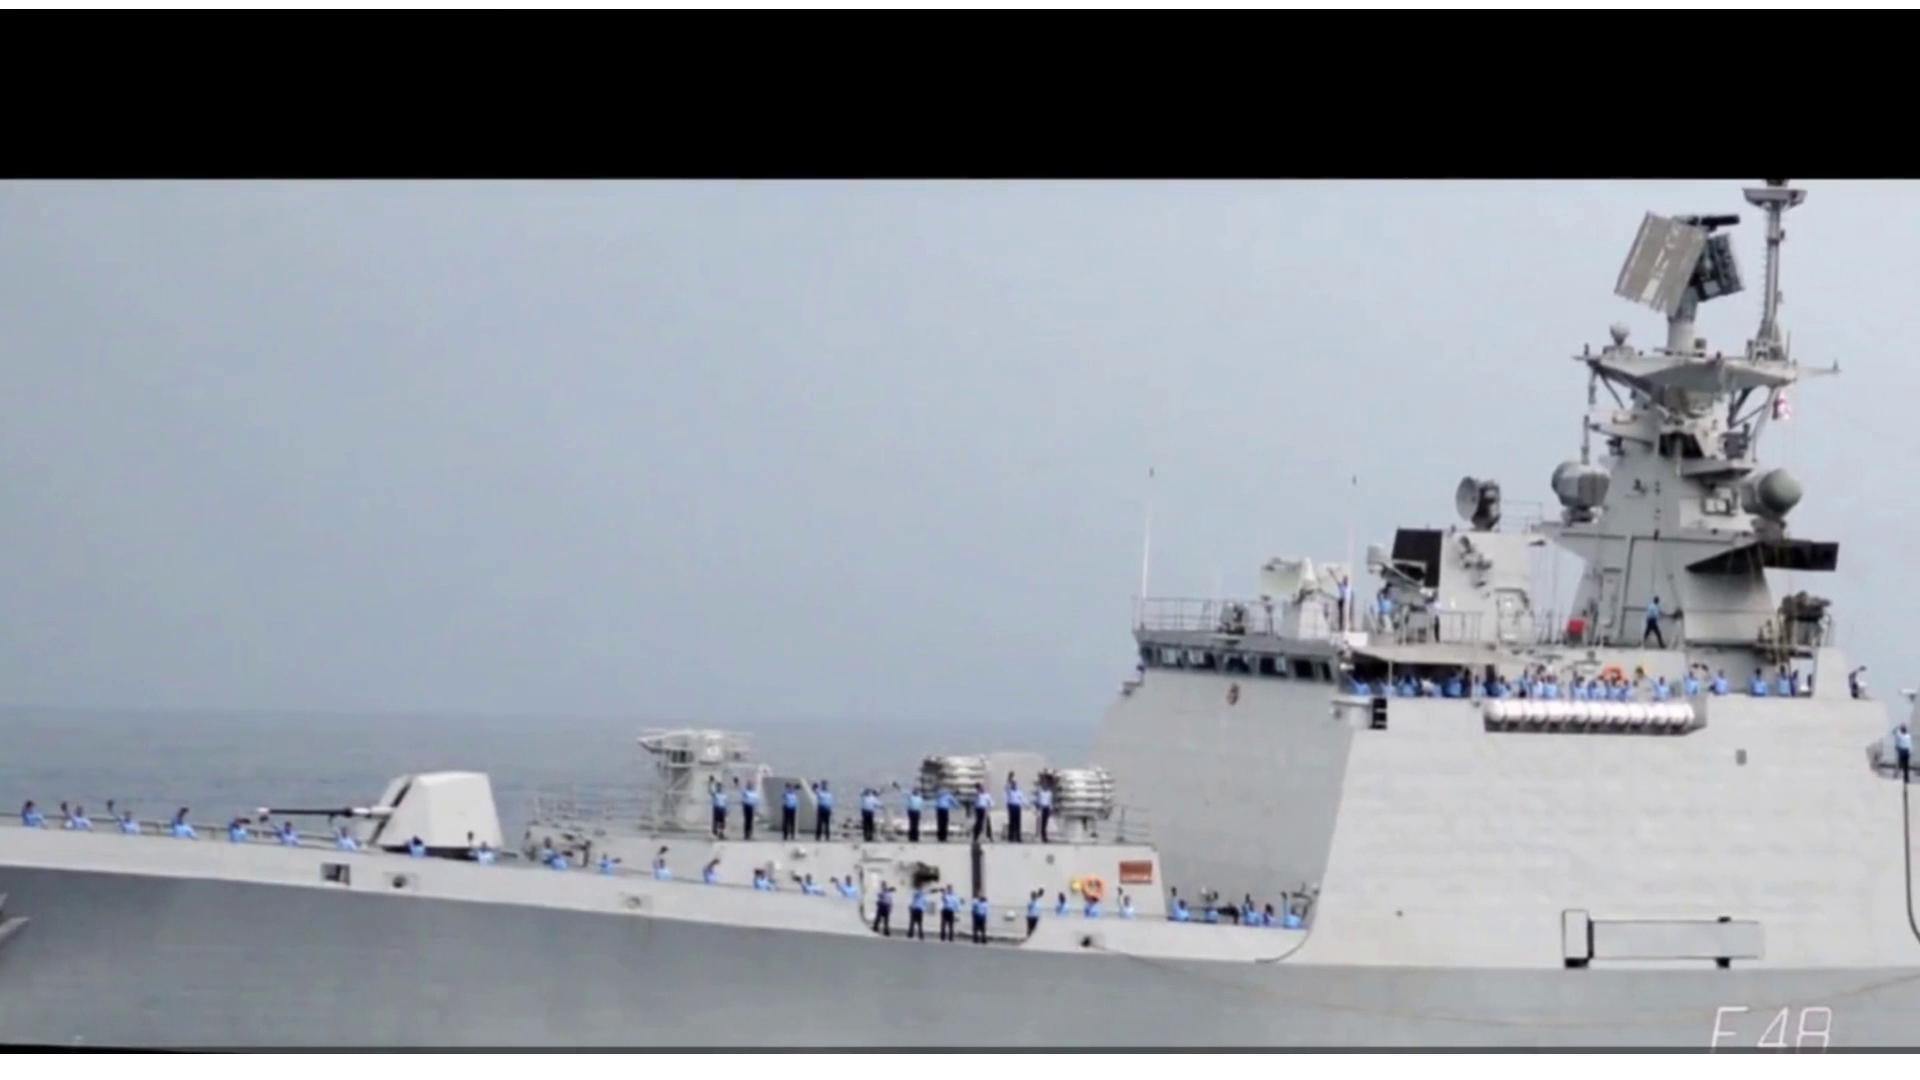OCR: (1694, 986, 1829, 1048)
